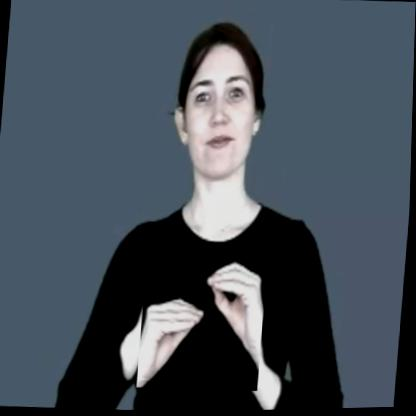Fix: (138, 239, 270, 394)
